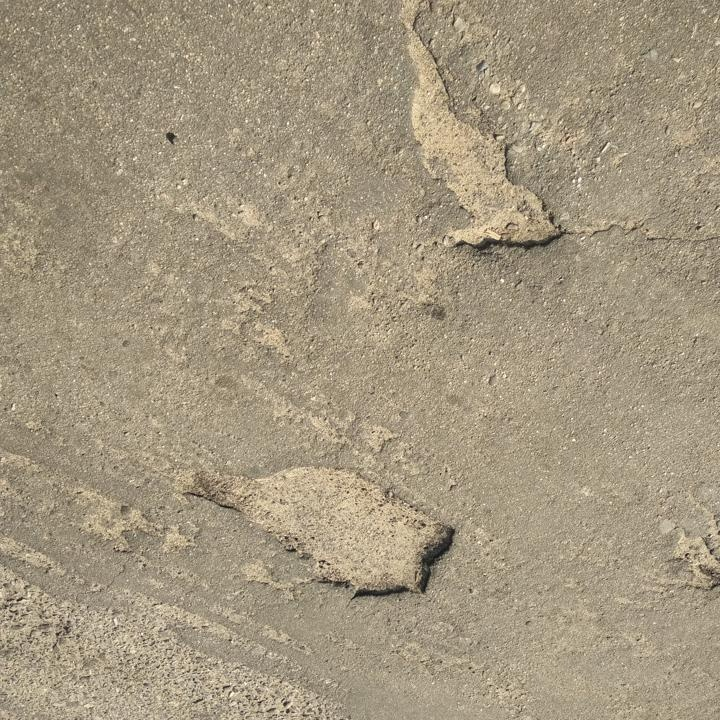pothole: (392, 0, 565, 256), (174, 456, 463, 605), (662, 512, 720, 593)
